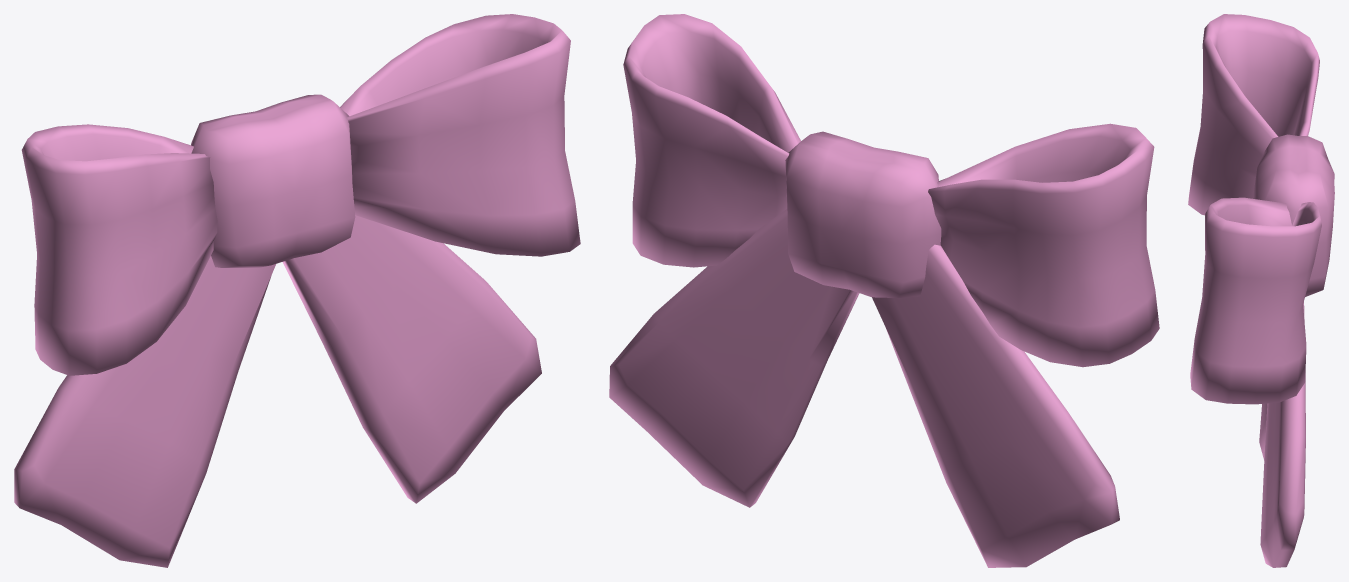
Rendered from bow.fbx.
The picture shows the model from 3 angles, left to right: view 1: azimuth 30°, elevation 25°; view 2: azimuth 150°, elevation 25°; view 3: azimuth 270°, elevation 25°; orthographic projection. The views are drawn at different scales.
Parts seen in each view (by area): view 1: bow; view 2: bow; view 3: bow.
Boxes of the visible parts, <box> form: bow: <box>14,14,580,567</box>; bow: <box>609,14,1159,567</box>; bow: <box>1188,14,1334,567</box>.
Bounding box in the file's own units: 0.1683 × 0.1411 × 0.0473.
